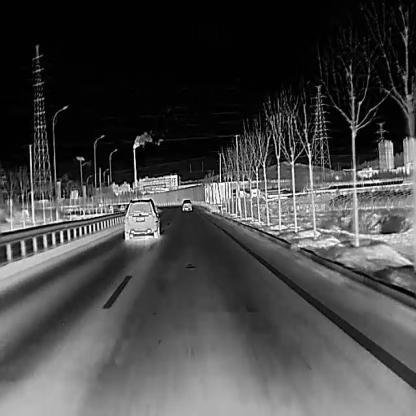car: (123, 197, 159, 240), (181, 199, 191, 211)
